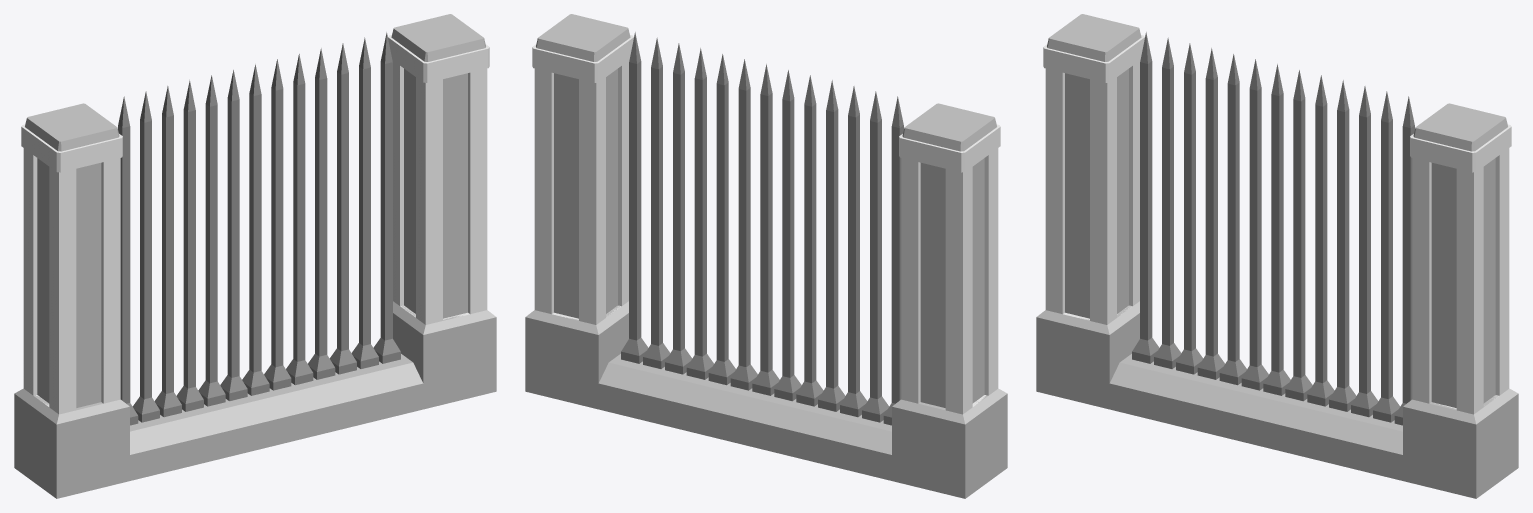
Rendered from BigFence_01.fbx.
3 renders of one model, left to right at view 1: azimuth 30°, elevation 25°; view 2: azimuth 150°, elevation 25°; view 3: azimuth 330°, elevation 25°, orthographic.
Parts seen in each view (by area): view 1: BigFence_01; view 2: BigFence_01; view 3: BigFence_01.
Part boxes in pixels (x1,y1,x2,y2): BigFence_01: (14,14,496,498); BigFence_01: (525,14,1007,498); BigFence_01: (1036,14,1518,498).
Size of the model in its own units: 366 by 291 by 61.03.
